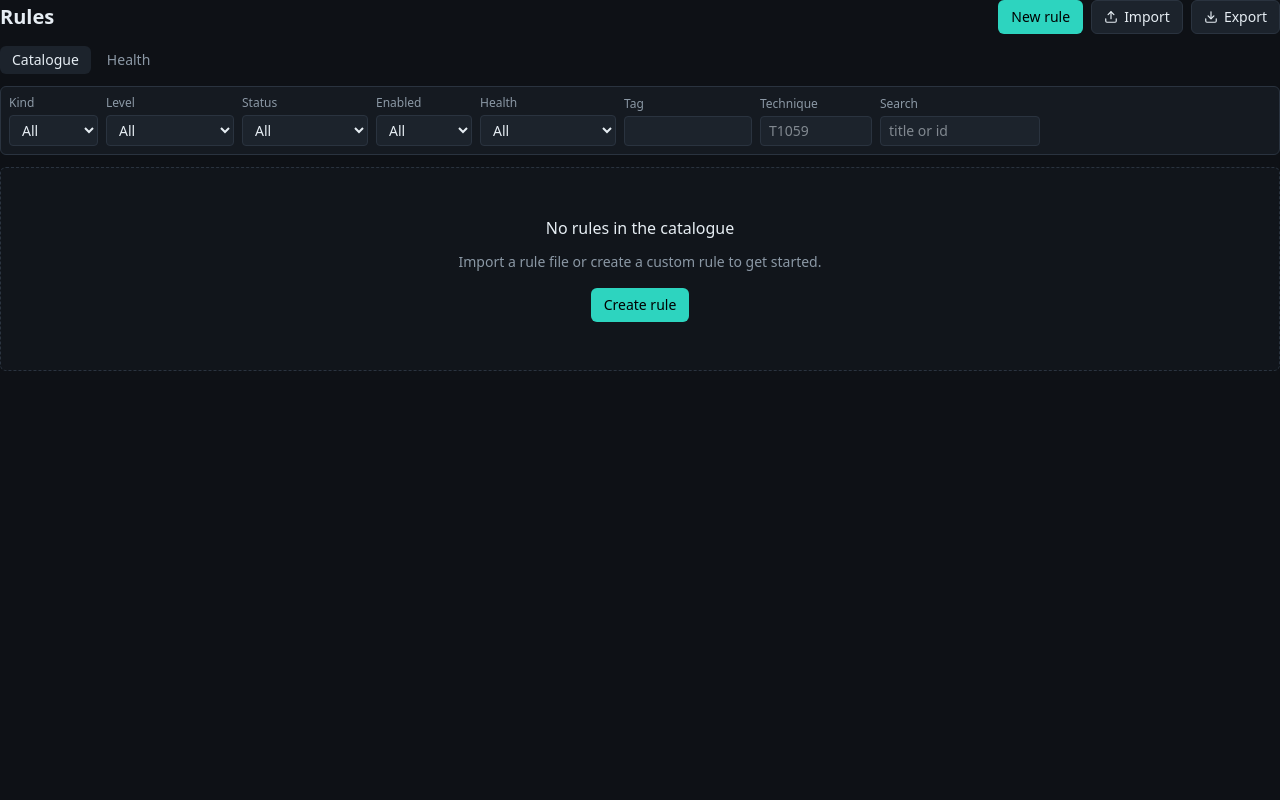
RulesPage › opens the create drawer from the New rule button
Expected: the heading "No rules in the catalogue" is shown, [546,216,734,240]
Click the button "New rule" at (1041, 17), box [998,0,1083,34]
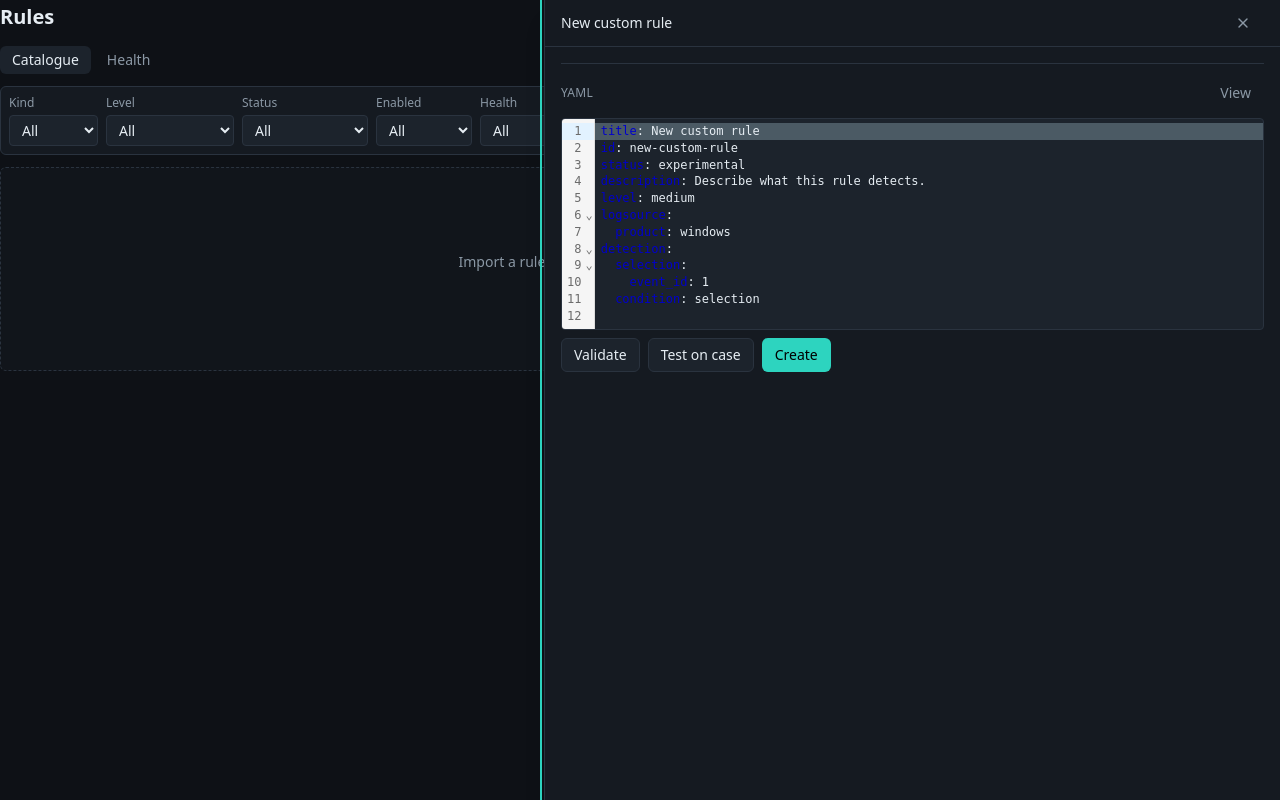
Result: the dialog named "New rule" is shown at [544,0,1279,799]
